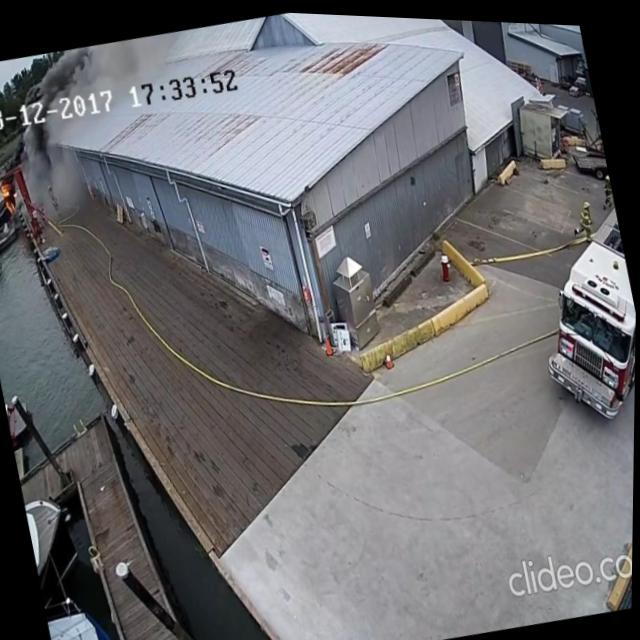fire: (0, 178, 24, 220)
